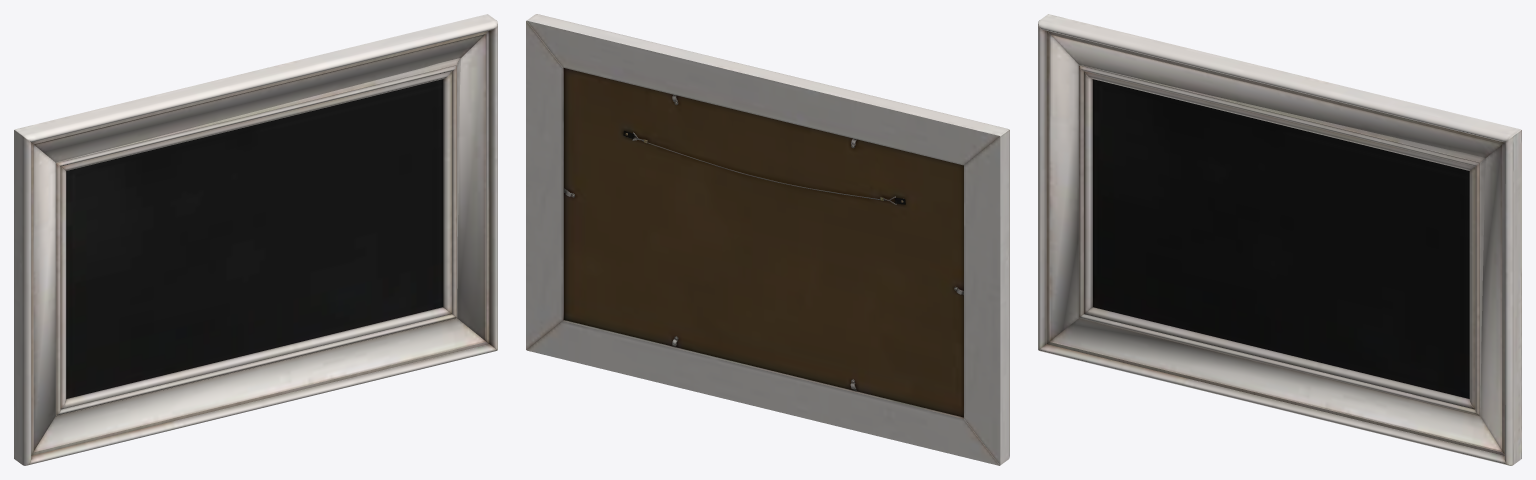
File: hanging_picture_frame_02.glb
The picture shows the model from 3 angles, left to right: view 1: azimuth 30°, elevation 25°; view 2: azimuth 150°, elevation 25°; view 3: azimuth 330°, elevation 25°; orthographic projection.
Parts seen in each view (by area): view 1: hanging_picture_frame_02, hanging_picture_frame_02_lo; view 2: hanging_picture_frame_02_lo, hanging_picture_frame_02; view 3: hanging_picture_frame_02, hanging_picture_frame_02_lo.
Boxes of the visible parts, <box> form: hanging_picture_frame_02: <box>14,14,497,465</box>; hanging_picture_frame_02_lo: <box>33,34,485,451</box>; hanging_picture_frame_02_lo: <box>562,68,963,417</box>; hanging_picture_frame_02: <box>526,14,1009,465</box>; hanging_picture_frame_02: <box>1038,14,1521,465</box>; hanging_picture_frame_02_lo: <box>1050,34,1502,451</box>.
Bounding box in the file's own units: 0.7518 × 0.5 × 0.033.
3 materials, 3 textured.
